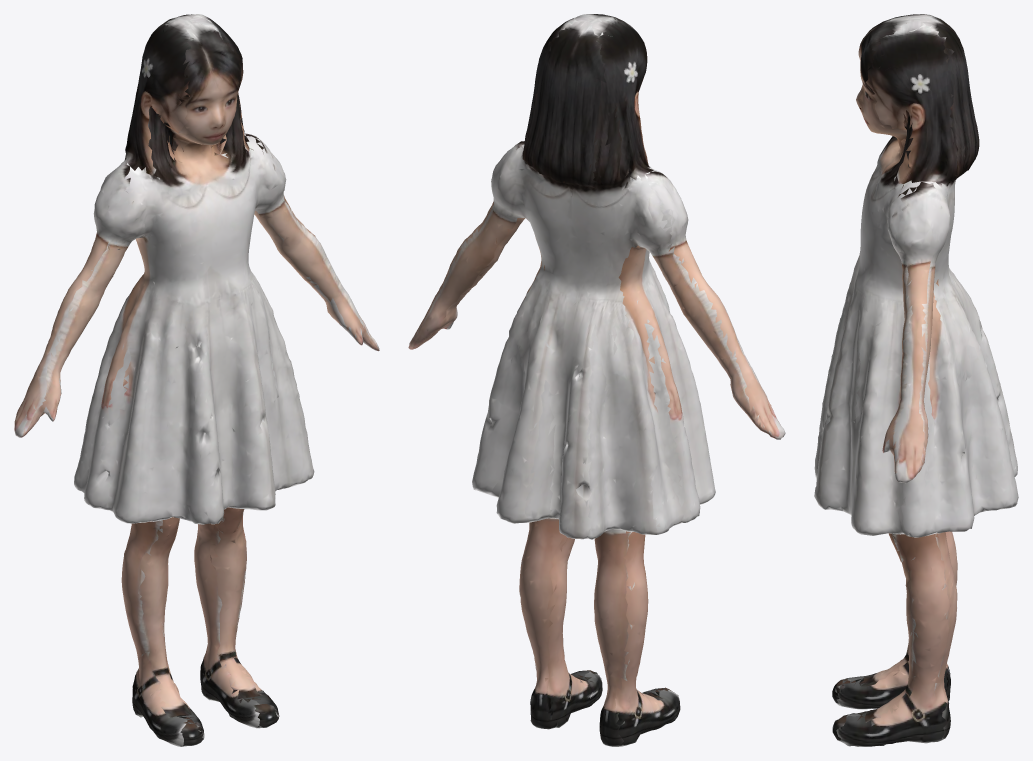
Rendered from girl_v2.glb.
3 renders of one model, left to right at view 1: azimuth 30°, elevation 25°; view 2: azimuth 150°, elevation 25°; view 3: azimuth 270°, elevation 25°, orthographic. The views are drawn at different scales.
Visible parts, largest first — view 1: geometry_0; view 2: geometry_0; view 3: geometry_0.
Part boxes in pixels (x1=…): geometry_0: x1=14, y1=14, x2=379, y2=746; geometry_0: x1=408, y1=14, x2=785, y2=746; geometry_0: x1=814, y1=14, x2=1018, y2=746.
Bounding box in the file's own units: 1.08 × 1.97 × 0.5205.
Materials: 1 (1 with a texture image).
